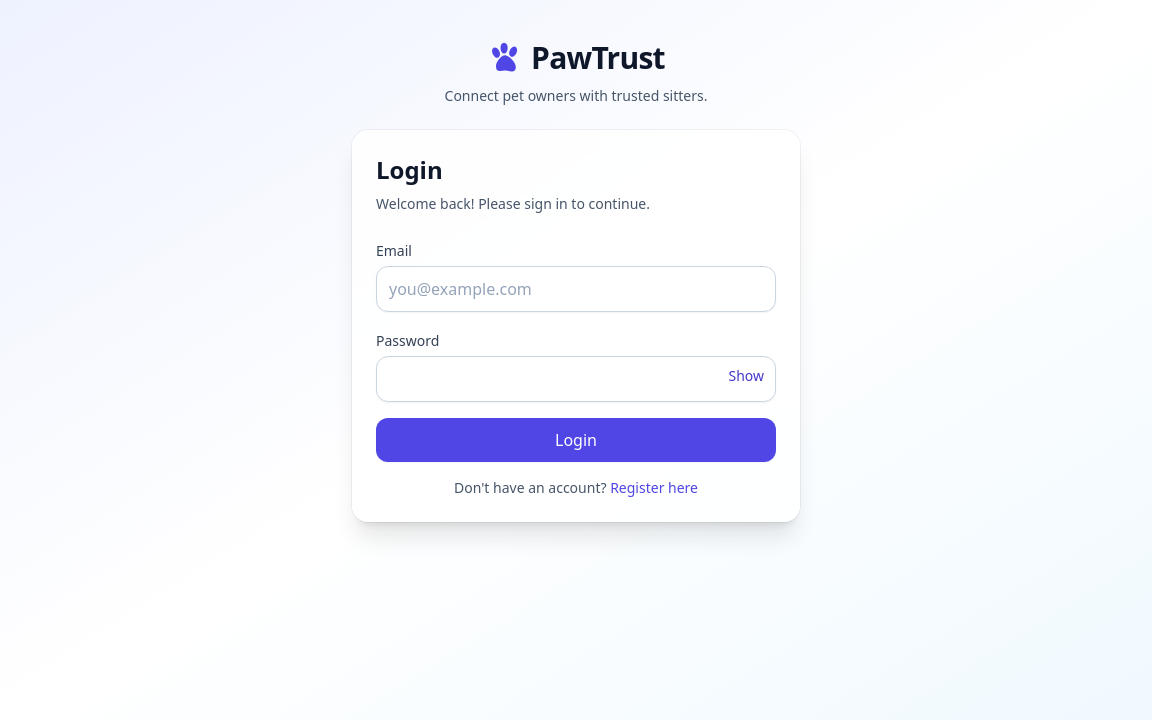
authentication pages › validates empty login without contacting the server
Click the button "Login". click: (576, 440)
box: left=376, top=418, right=776, bottom=462
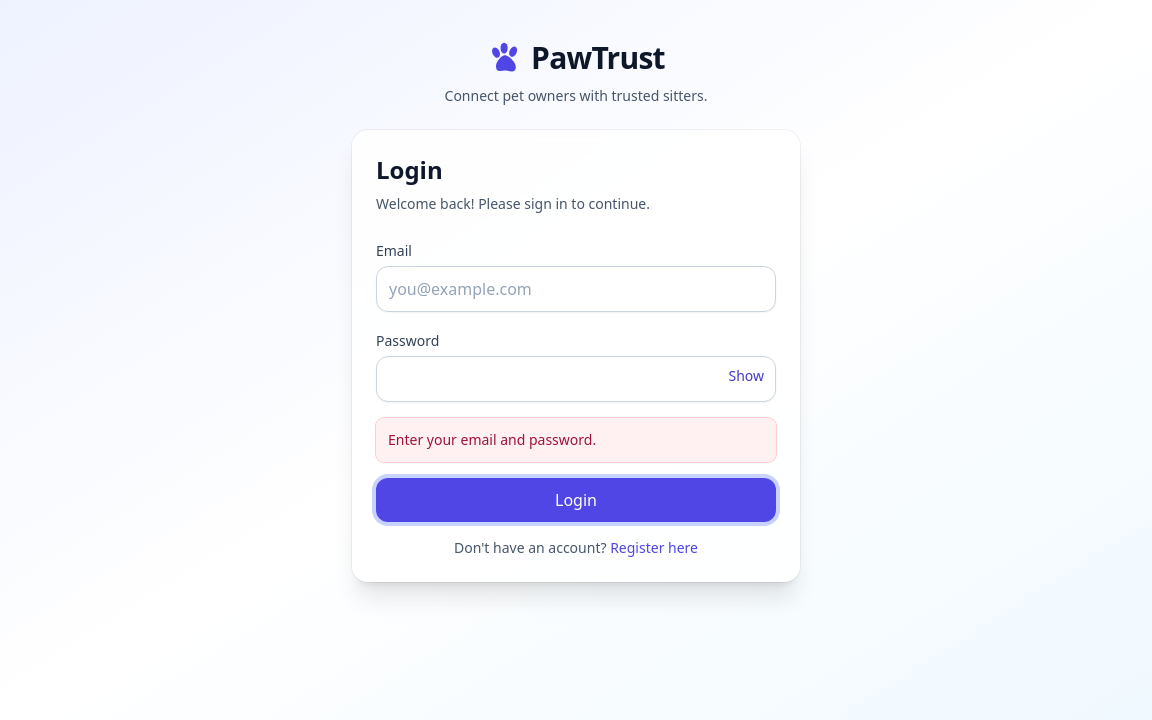
Check: the message shows "Enter your email and password", box left=388, top=430, right=596, bottom=449
